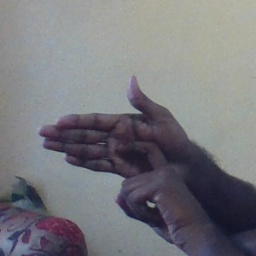R: (36, 75, 199, 218)
